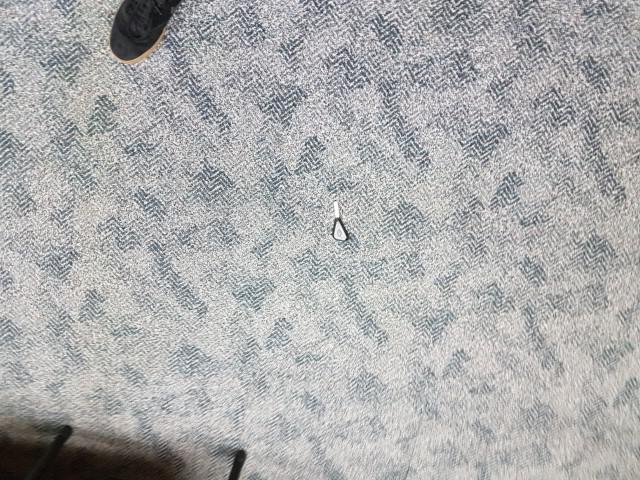key: (324, 196, 355, 245)
